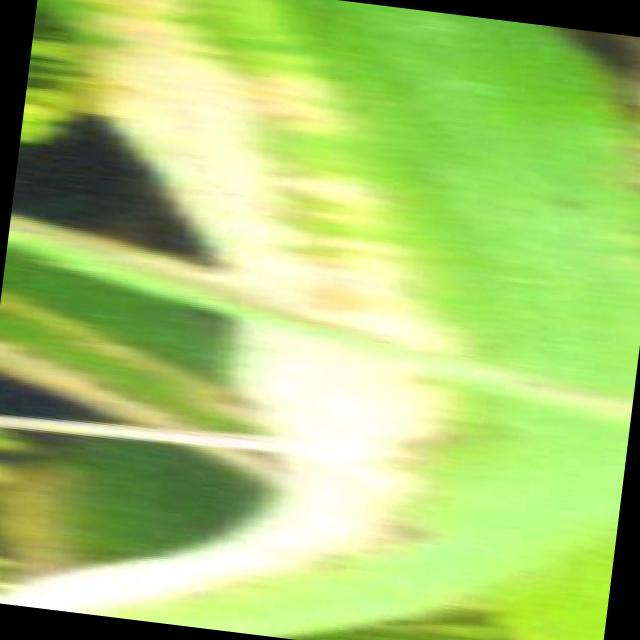Rice_Bacterial_Blight: (115, 0, 640, 626)
